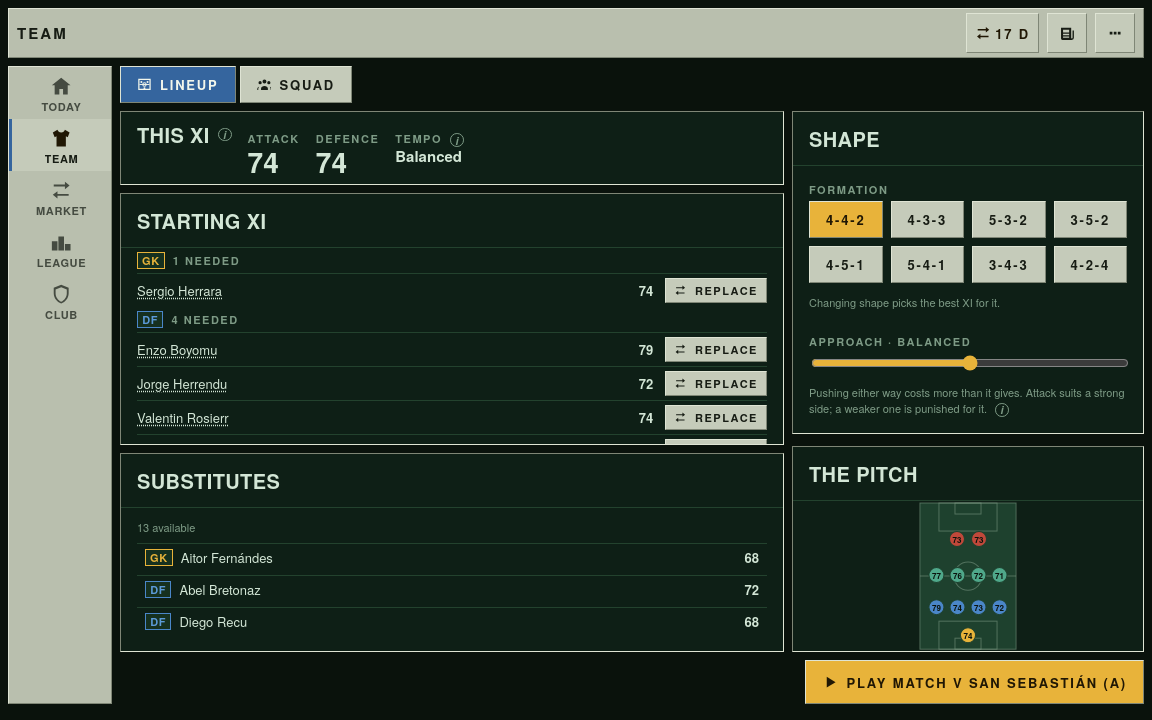
Test: the phone shell › plays the match from any screen, and shows the result
Click the button "Play match v San Sebastián (A)" at (975, 682), box [805, 660, 1144, 704]
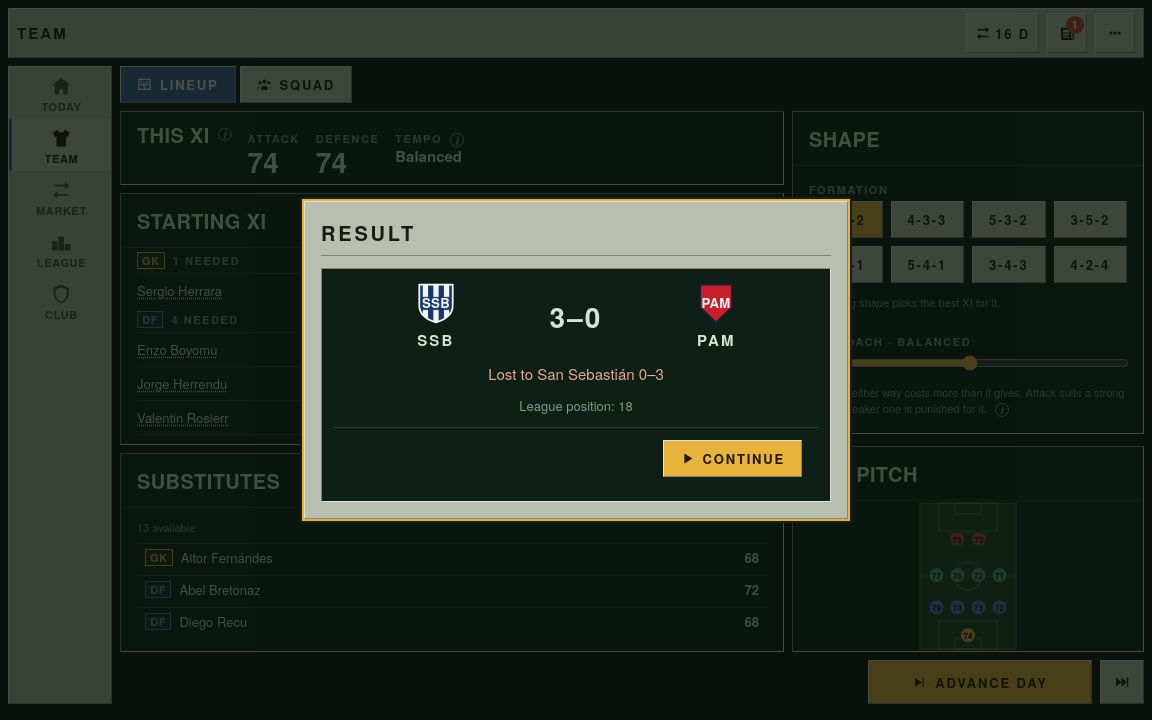
Expected: the dialog named "Result" reads "SSB SSB 3–0 PAM PAM Lost to San Sebastián 0–3 League position: 18 Continue", [488, 363, 664, 384]
Click the button "Continue" at (732, 458), box [663, 440, 802, 477]
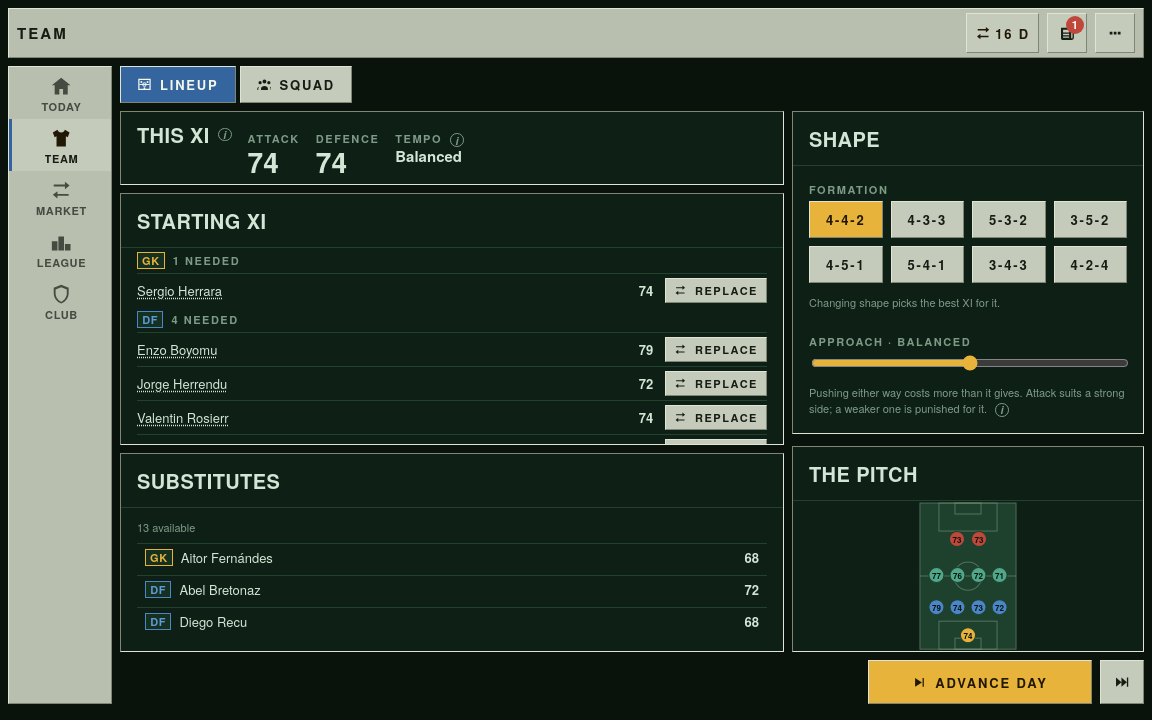
Expected: the dialog is gone
